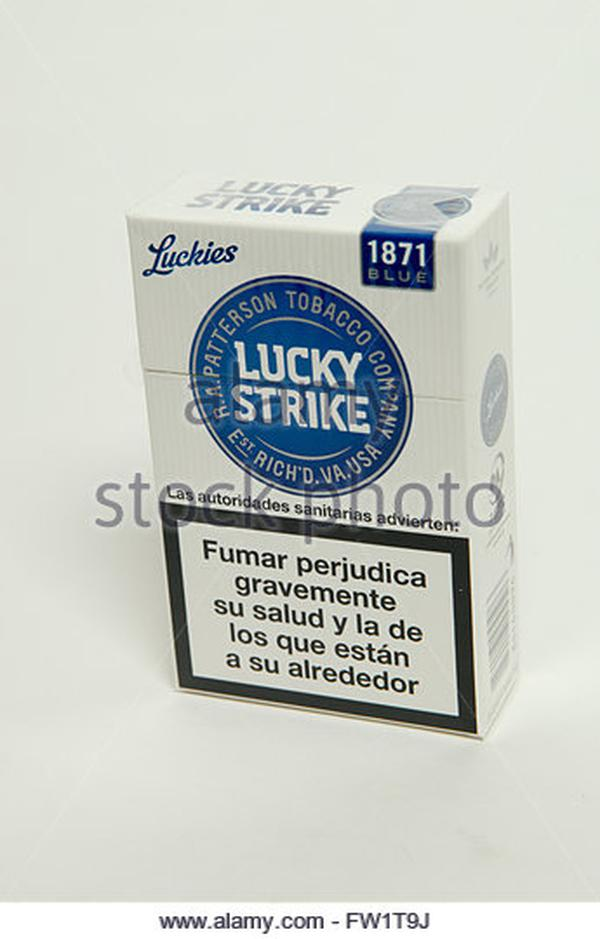lucky_strike_blue: (148, 212, 477, 686)
